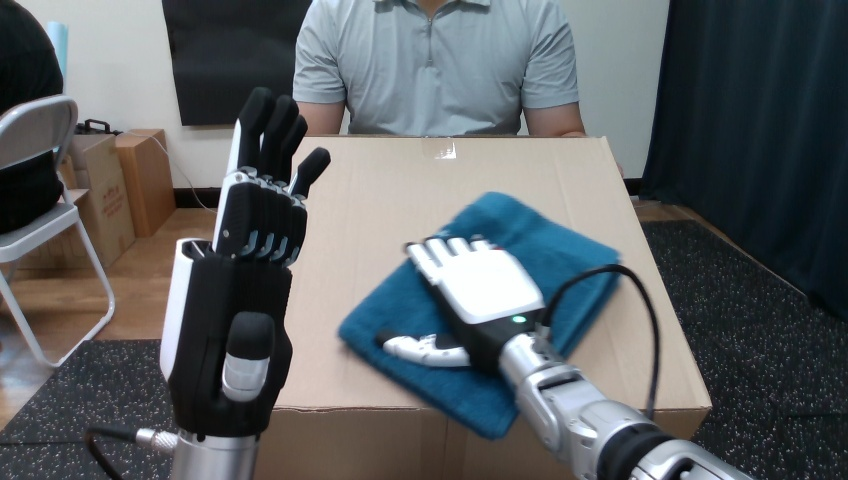left robot hand: (85, 87, 329, 478), (383, 237, 750, 479), (548, 271, 654, 416)
